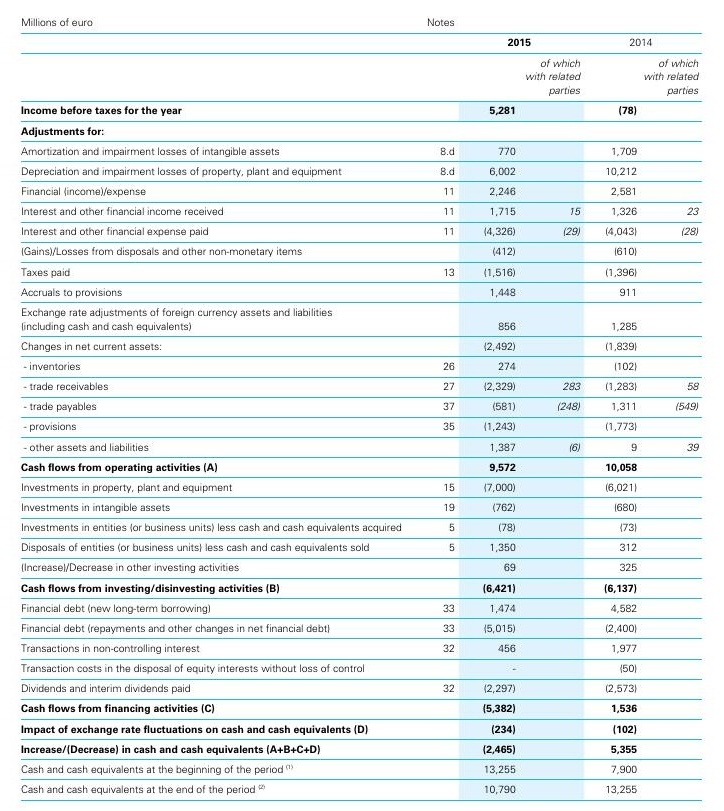table: (0, 0, 724, 811)
